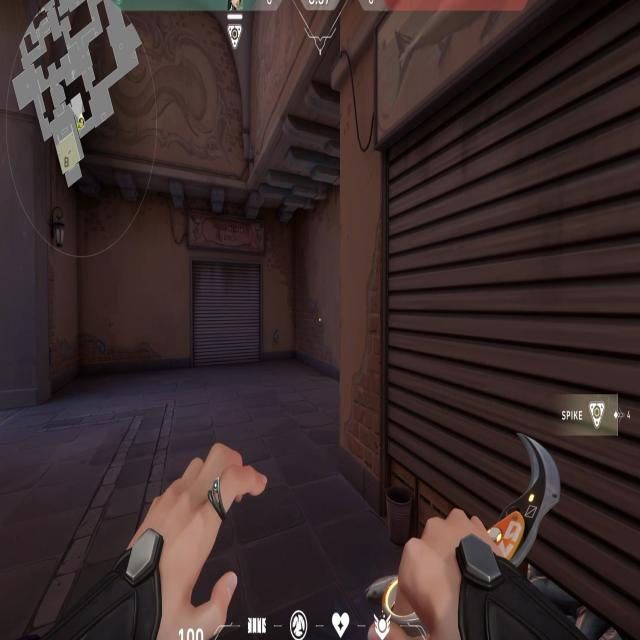B_Main_Corner: (333, 3, 640, 640)
